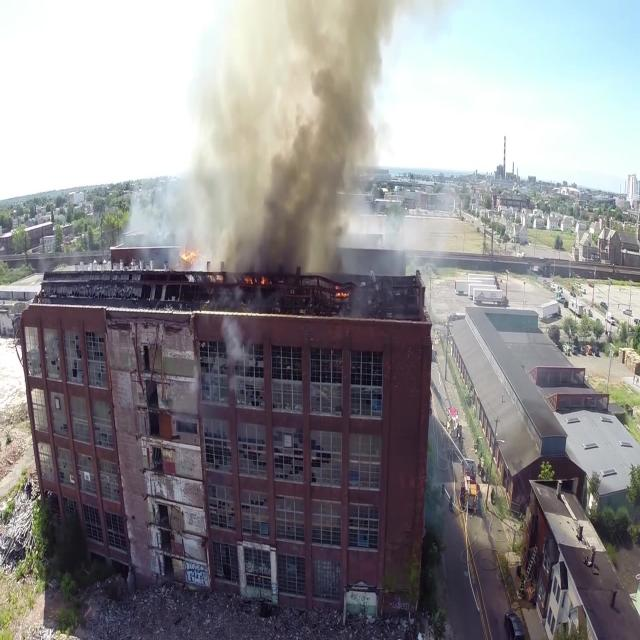Smoke: (187, 0, 399, 289)
